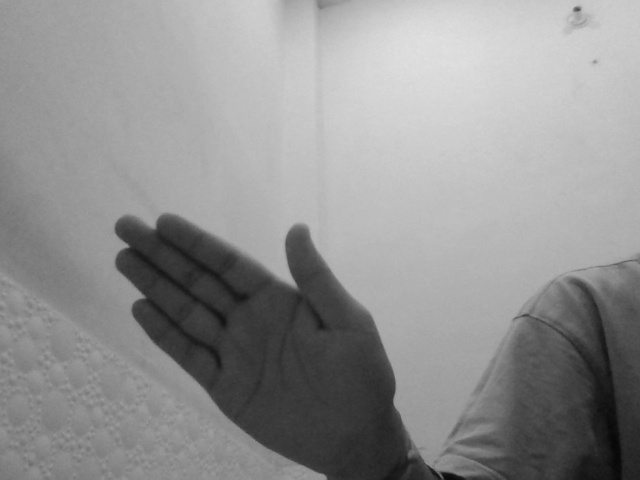Hello: (108, 205, 410, 467)
